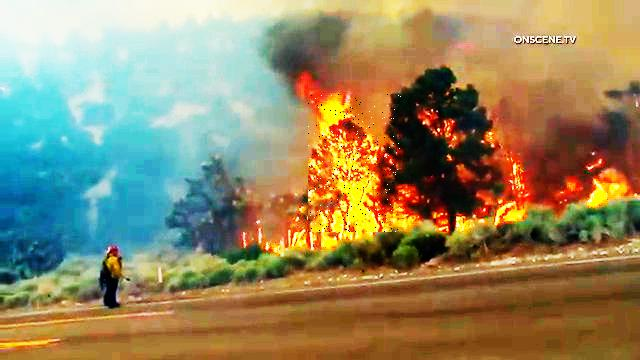fire: (309, 94, 402, 232)
